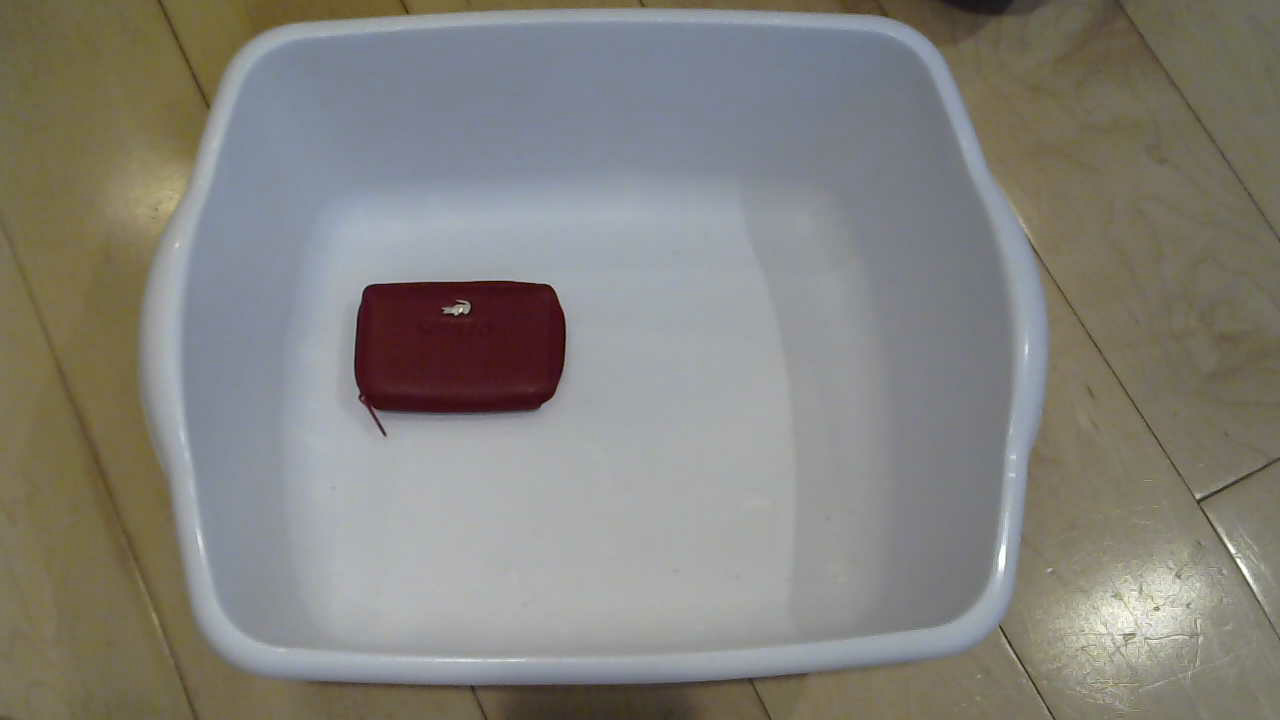wallet: (325, 251, 582, 443)
